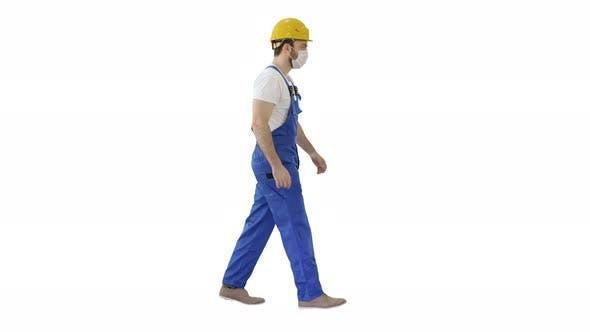hardhat: (271, 19, 315, 43)
worker: (220, 17, 346, 311)
